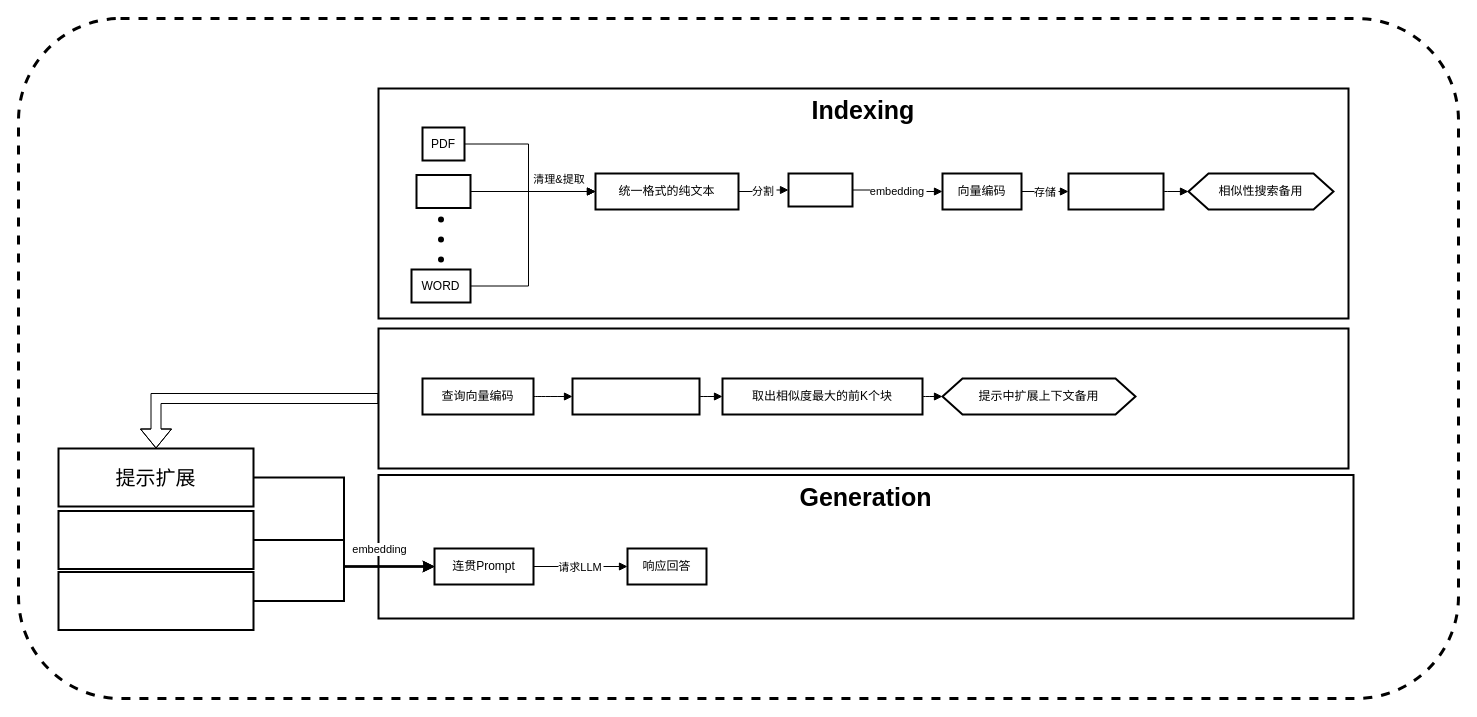
Some shapes in this 1477 by 717 pixel diagram are drawn without their labels. The box of each missing label's shape, as (x1, y1, x2, y2) in pixels:
chunks: (787, 172, 853, 207)
HTML: (415, 174, 471, 208)
Retrieval: (377, 327, 1349, 469)
向量数据库: (1067, 172, 1164, 210)
多轮对话历史: (57, 570, 254, 630)
用户查询: (57, 510, 254, 570)
计算相似度分数: (571, 377, 700, 415)
